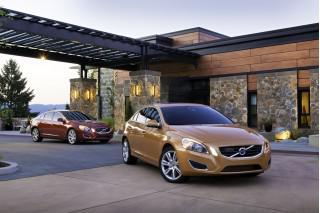volvo: (232, 142, 252, 164)
